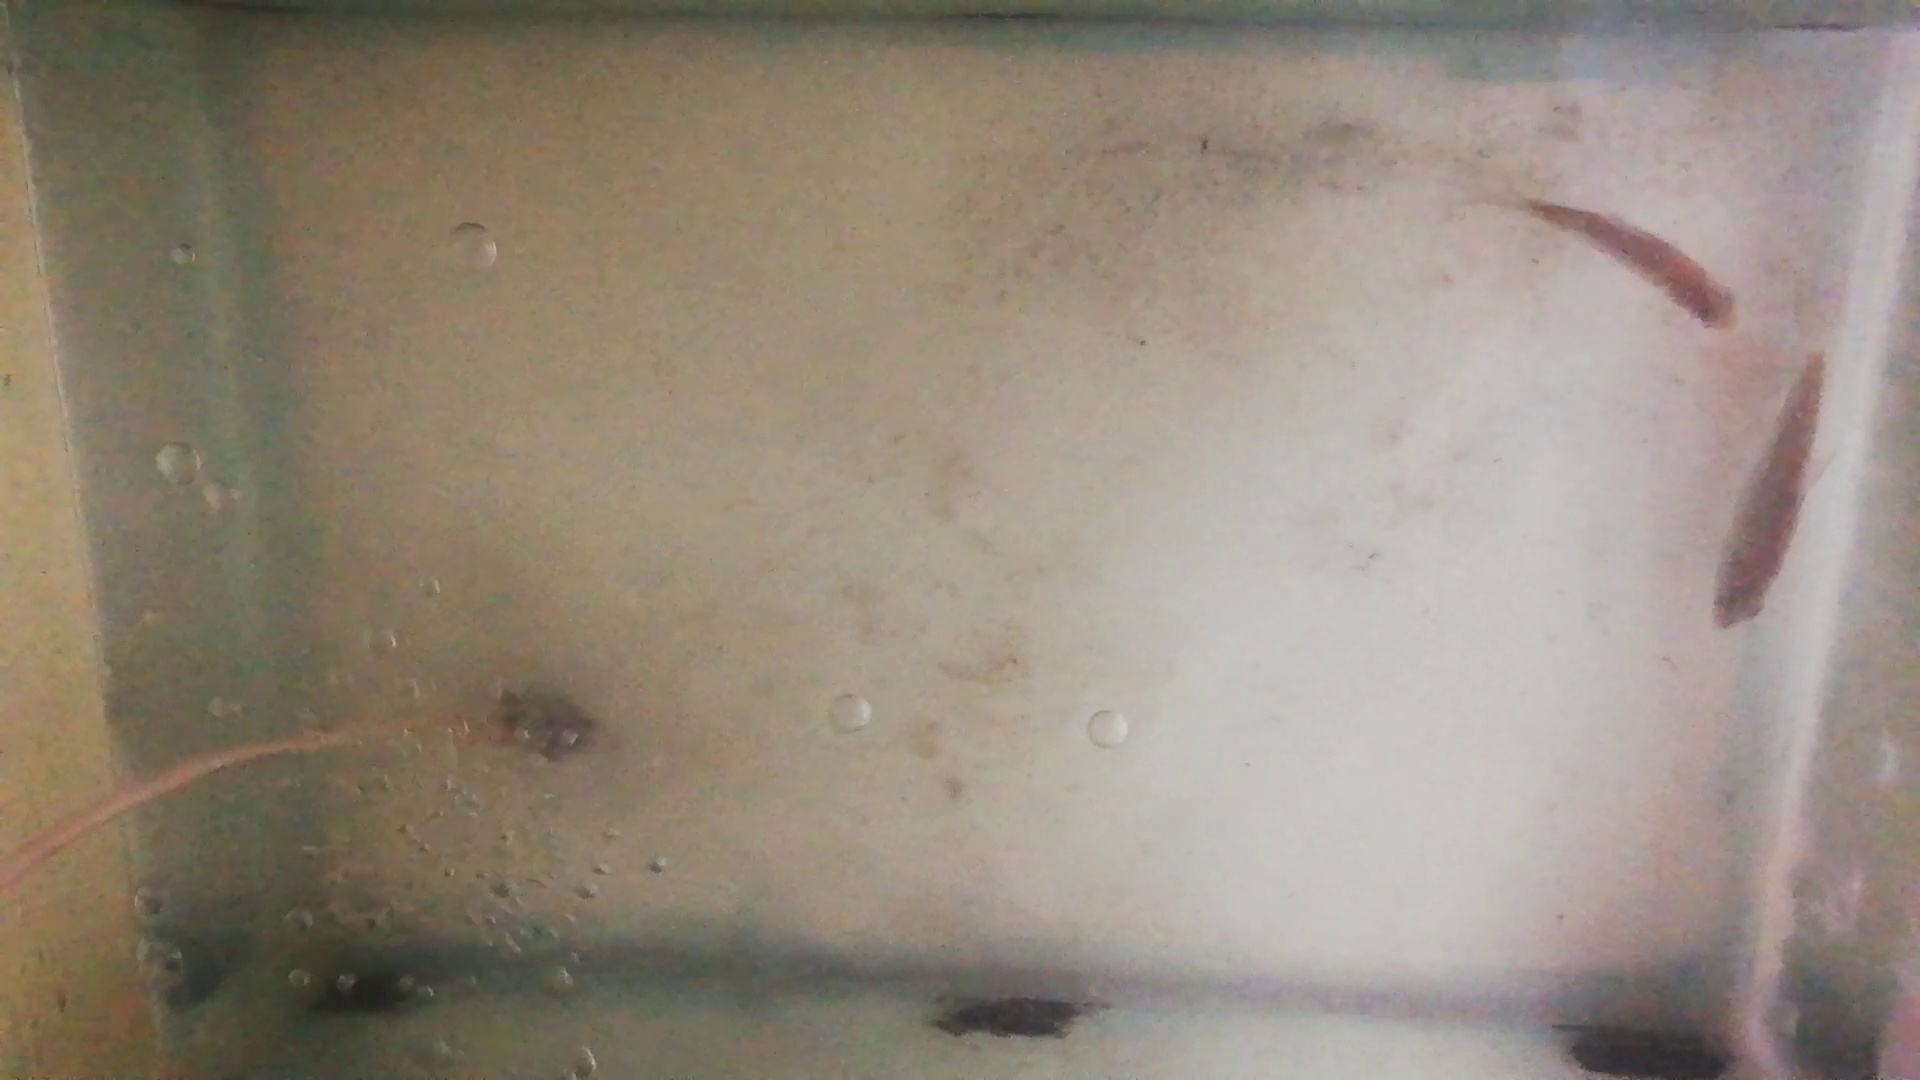fish: (1706, 352, 1832, 632), (1524, 200, 1741, 332)
